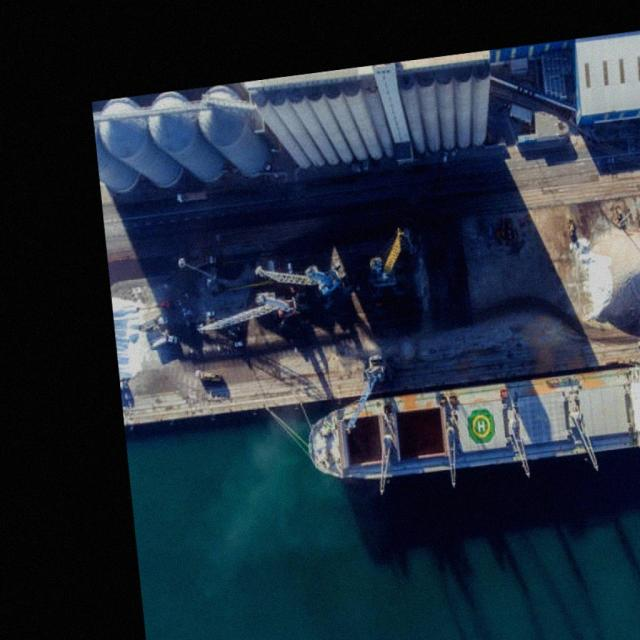helipad: (471, 413, 490, 437)
